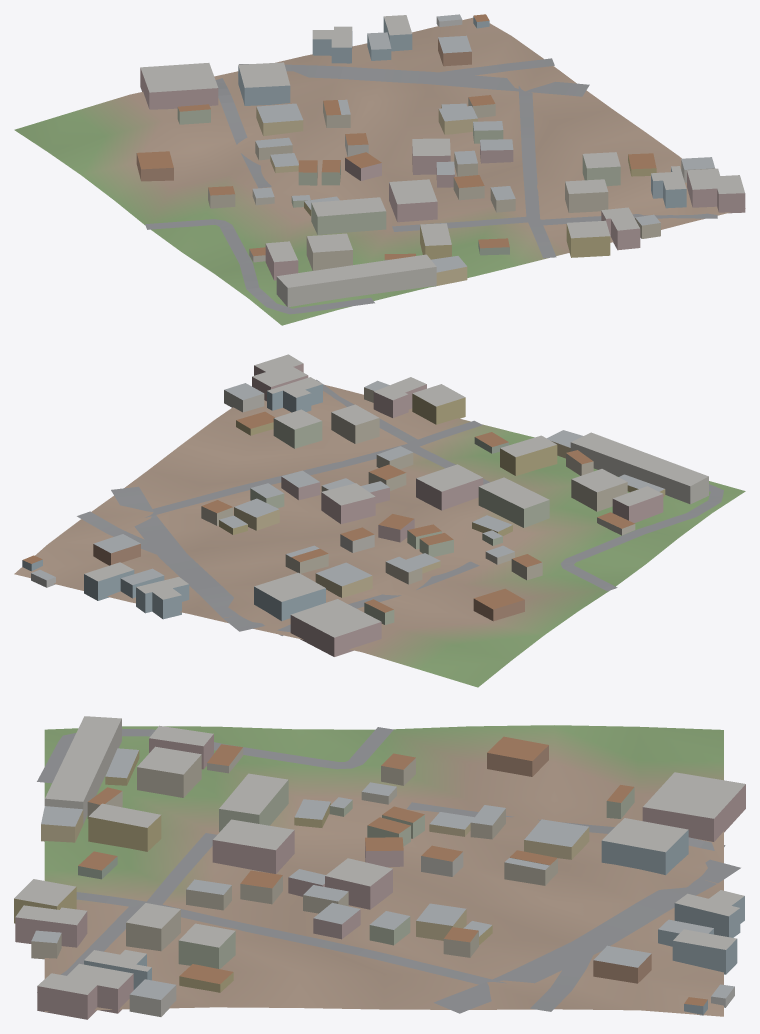
The picture shows the model from 3 angles, top to bottom: view 1: azimuth 30°, elevation 25°; view 2: azimuth 150°, elevation 25°; view 3: azimuth 270°, elevation 25°; orthographic projection. The views are drawn at different scales.
Visible parts, largest first — view 1: Lo; view 2: Lo; view 3: Lo.
Part boxes in pixels (bbox=[...]): Lo: bbox=[14, 14, 745, 325]; Lo: bbox=[14, 354, 745, 687]; Lo: bbox=[14, 716, 745, 1019].
Bounding box in the file's own units: 264 × 13.95 × 276.
